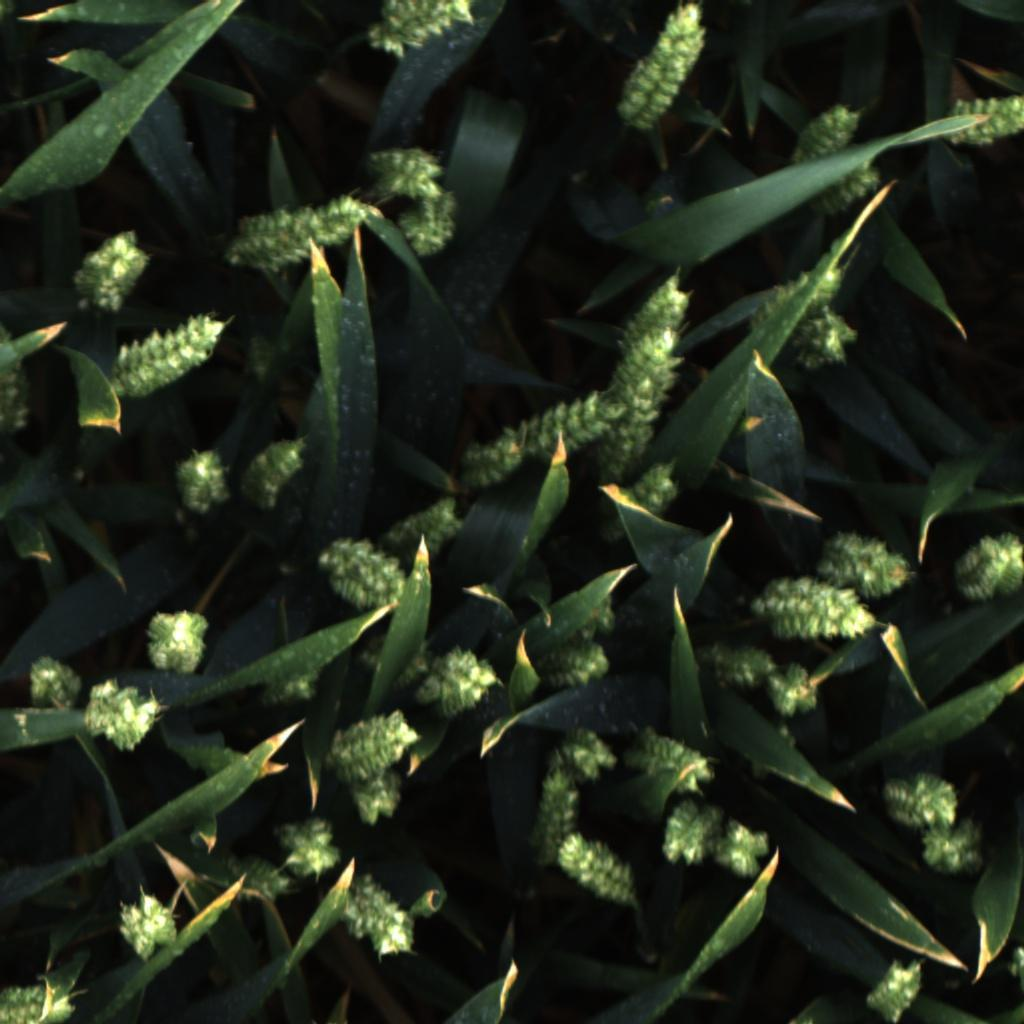0-0: (217, 188, 369, 277), (610, 3, 710, 135), (511, 375, 646, 464), (107, 316, 232, 406), (747, 574, 883, 645), (63, 223, 156, 320), (747, 258, 850, 341), (595, 371, 668, 485), (361, 0, 491, 64), (310, 536, 407, 618), (319, 701, 417, 778), (334, 869, 418, 958), (611, 269, 691, 362), (550, 828, 639, 911), (621, 725, 725, 796), (598, 322, 682, 409), (797, 150, 886, 224), (415, 639, 502, 714), (384, 487, 466, 565), (83, 675, 168, 750), (237, 431, 313, 513), (828, 524, 911, 599), (138, 603, 221, 677), (261, 813, 347, 884), (874, 765, 965, 832), (952, 530, 1024, 612), (527, 768, 591, 860), (361, 136, 453, 200), (109, 888, 187, 959), (783, 97, 863, 166), (535, 631, 618, 697), (164, 442, 238, 515), (393, 195, 468, 265), (0, 306, 39, 438), (857, 951, 927, 1024), (622, 450, 692, 522), (345, 767, 419, 834), (941, 88, 1024, 147), (459, 422, 526, 493), (919, 816, 993, 880), (211, 855, 301, 907), (655, 804, 719, 877), (709, 816, 780, 881), (21, 648, 88, 716), (792, 303, 859, 370), (762, 660, 830, 726), (551, 723, 623, 785), (739, 721, 803, 790), (359, 642, 436, 697), (697, 635, 772, 691), (0, 978, 74, 1024), (1002, 941, 1024, 1002)
